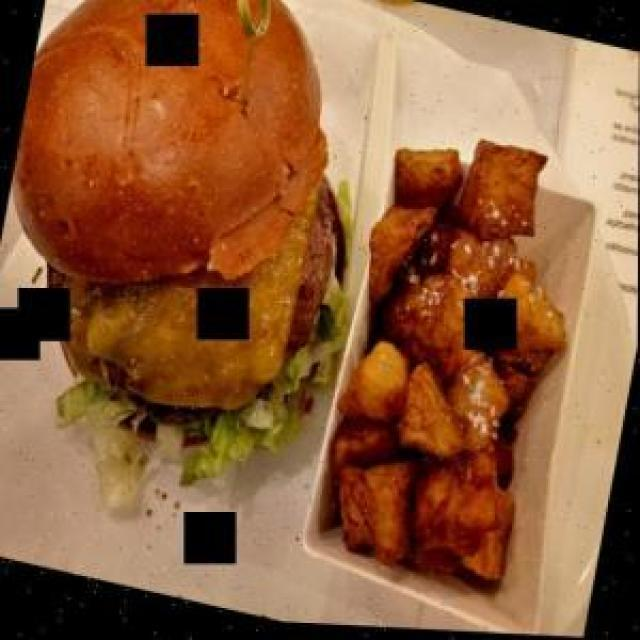Burger: (12, 0, 351, 512)
